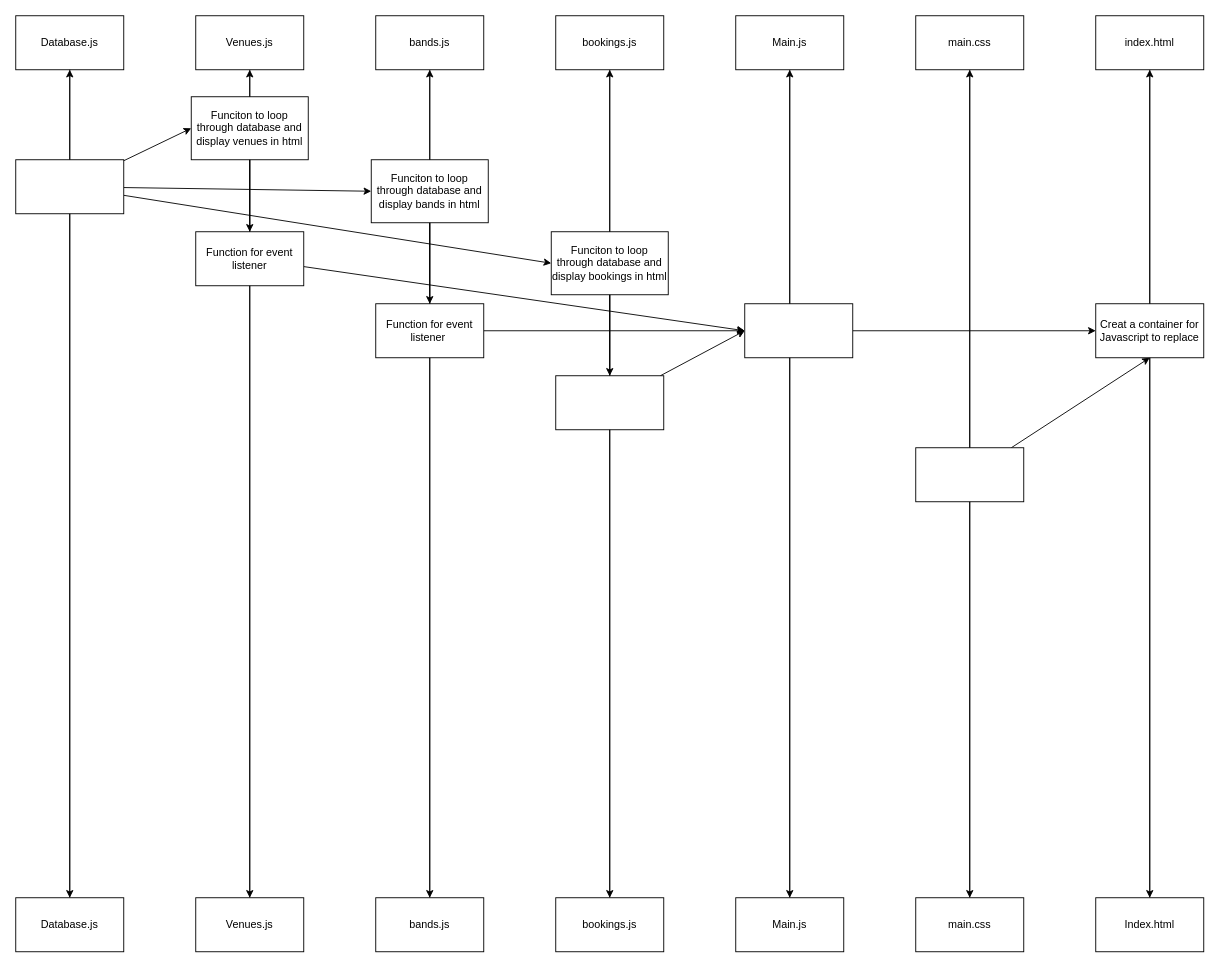
Image size: 1220x968. Some labels were removed from this diagram. Each missing label, with the centre of its shape:
"Export database info to specific modules" belongs at (69,186).
"Mulitple functions to match the correct band & venue for a booking" belongs at (609,402).
"String interpolation for dynamic html" belongs at (798,330).
"Styling changes" belongs at (969,474).
